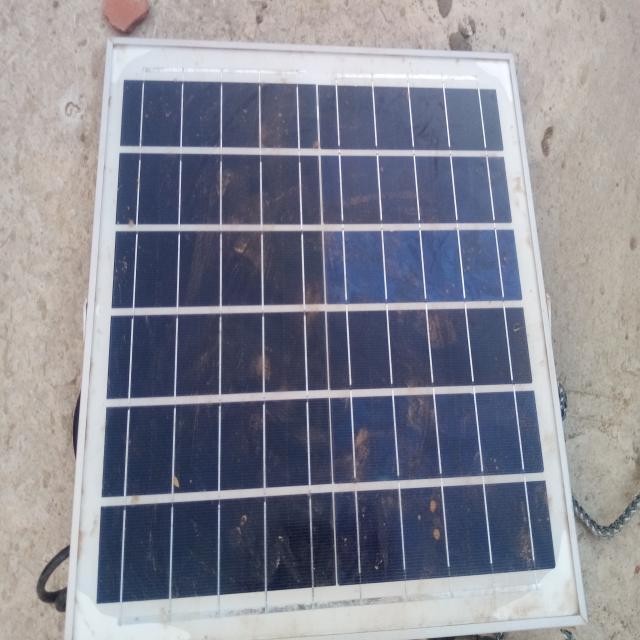faulty: (68, 43, 585, 640)
